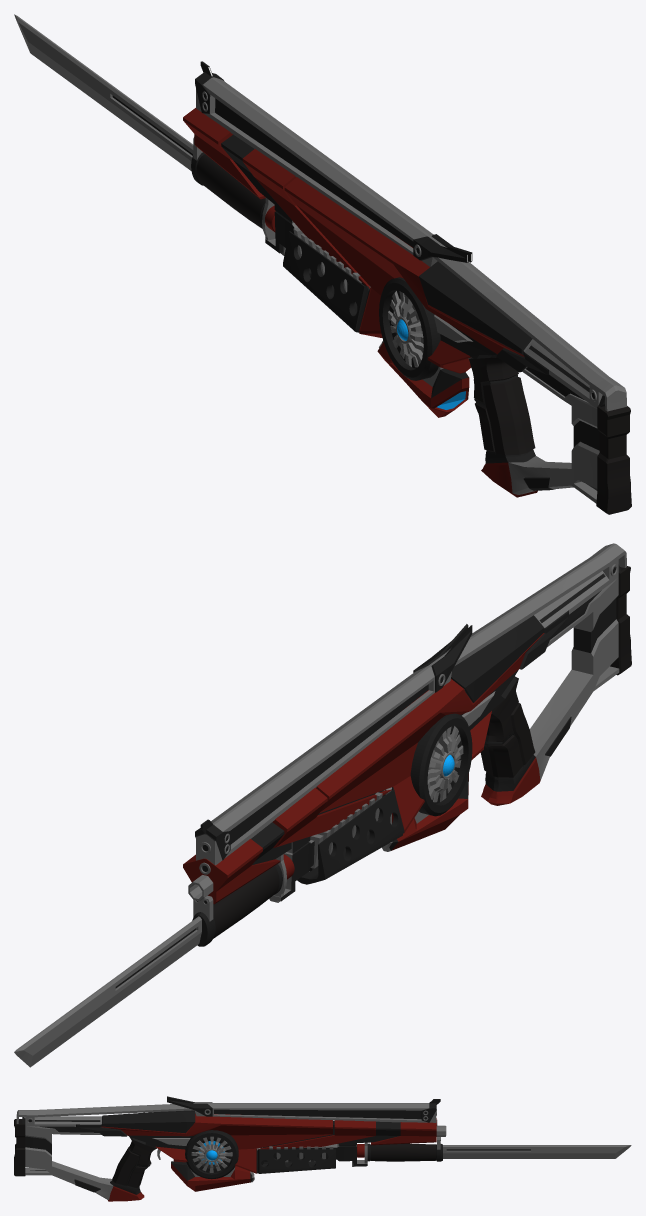
The model's file is LineRifleUriash.fbx.
3 renders of one model, top to bottom at view 1: azimuth 30°, elevation 25°; view 2: azimuth 150°, elevation 25°; view 3: azimuth 270°, elevation 25°, orthographic. The views are drawn at different scales.
Parts seen in each view (by area): view 1: Gun, Vent Cover, Battery; view 2: Gun, Vent Cover, Battery; view 3: Gun, Vent Cover, Battery.
Boxes of the visible parts, <box> form: Gun: <box>14,14,631,514</box>; Vent Cover: <box>419,261,532,354</box>; Battery: <box>377,340,469,417</box>; Gun: <box>14,543,631,1067</box>; Vent Cover: <box>451,615,544,702</box>; Battery: <box>382,773,468,851</box>; Gun: <box>14,1096,631,1201</box>; Vent Cover: <box>102,1110,195,1133</box>; Battery: <box>171,1161,254,1191</box>.
Bounding box in the file's own units: 135 × 475 × 2610.
